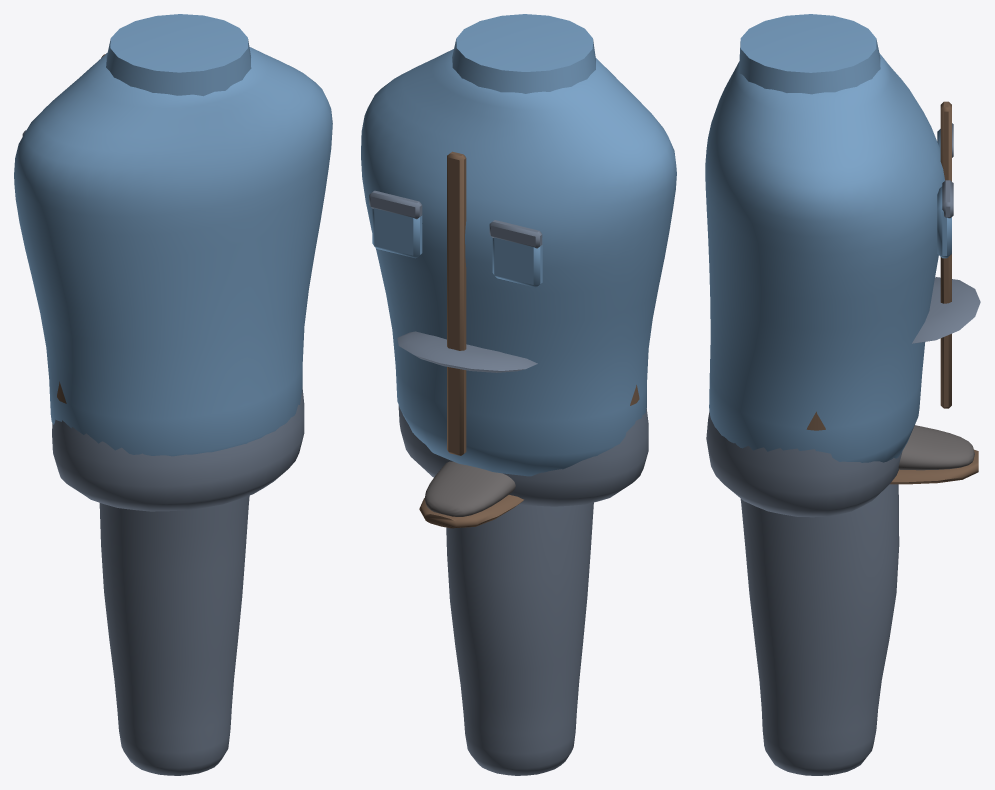
The model's file is Character_Worker.fbx.
3 views of the same model, side by side, from view 1: azimuth 30°, elevation 25°; view 2: azimuth 150°, elevation 25°; view 3: azimuth 270°, elevation 25° (orthographic).
Parts seen in each view (by area): view 1: Part_Chest, Part_L_Thigh, Part_Pelvis; view 2: Part_Chest, Part_L_Thigh, Part_Pelvis, Part_L_Foot, Part_Head; view 3: Part_Chest, Part_L_Thigh, Part_Pelvis, Part_L_Foot, Part_Head.
Part boxes in pixels (x1=…): Part_Chest: x1=14, y1=14, x2=332, y2=456; Part_L_Thigh: x1=99, y1=495, x2=249, y2=775; Part_Pelvis: x1=52, y1=381, x2=304, y2=511; Part_Chest: x1=361, y1=14, x2=676, y2=476; Part_L_Thigh: x1=446, y1=502, x2=593, y2=775; Part_Pelvis: x1=398, y1=385, x2=648, y2=506; Part_L_Foot: x1=419, y1=461, x2=523, y2=528; Part_Head: x1=397, y1=331, x2=537, y2=372; Part_Chest: x1=705, y1=14, x2=953, y2=462; Part_L_Thigh: x1=740, y1=484, x2=899, y2=775; Part_Pelvis: x1=706, y1=411, x2=902, y2=517; Part_L_Foot: x1=890, y1=425, x2=978, y2=484; Part_Head: x1=912, y1=277, x2=980, y2=343.
Bounding box in the file's own units: 0.421 × 0.983 × 0.3397.
